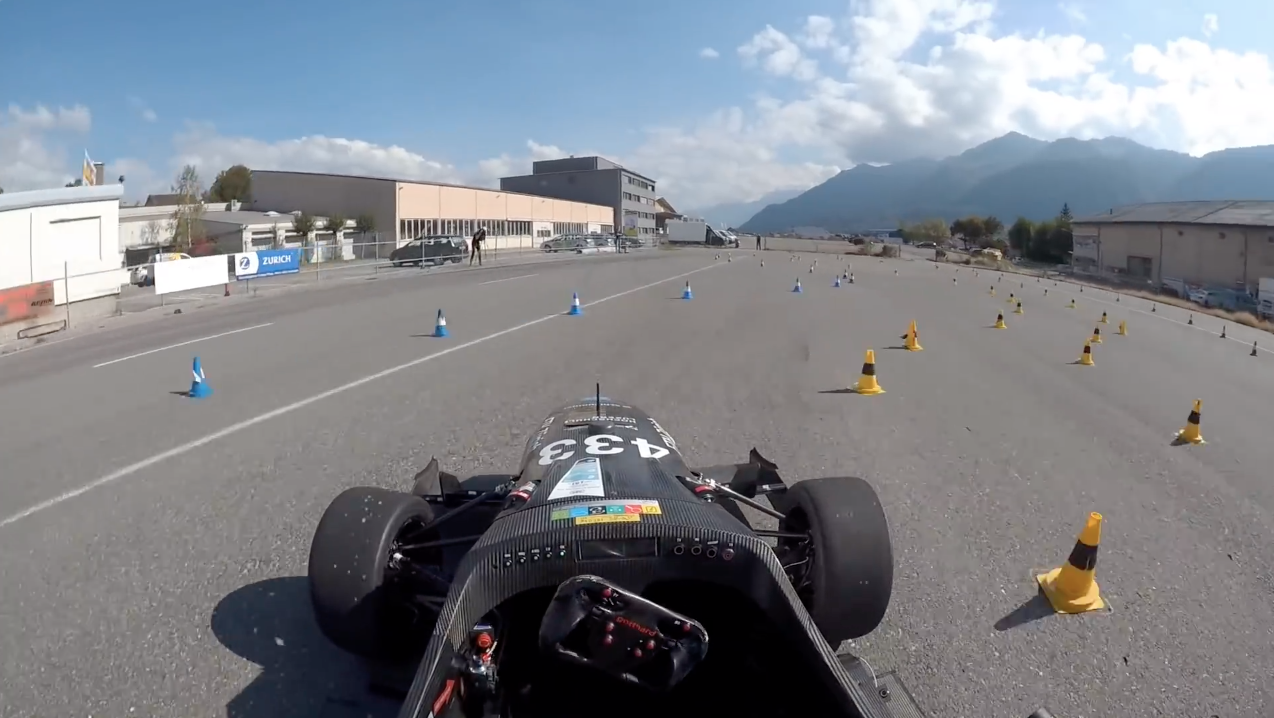lcone: (180, 354, 215, 401), (429, 304, 455, 340), (565, 290, 586, 318)
rcone: (1029, 505, 1122, 619), (850, 345, 889, 400), (1172, 397, 1214, 448), (898, 318, 926, 355)
